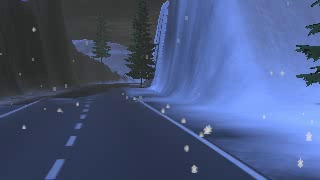Lane: (0, 82, 263, 178)
